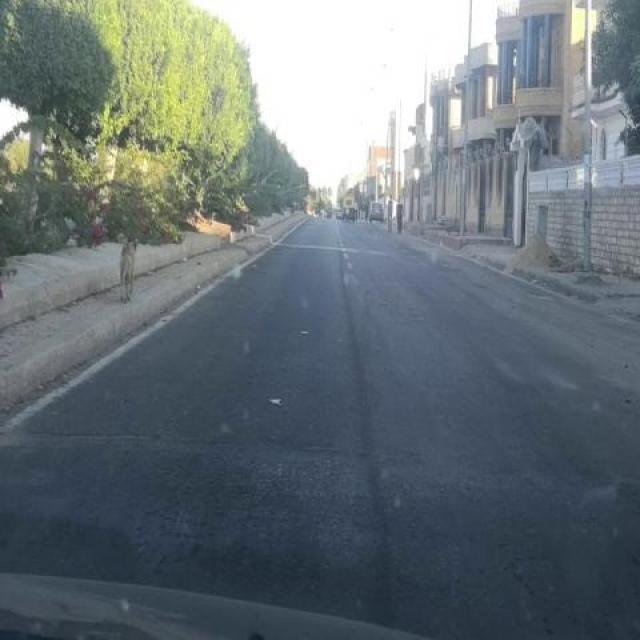Unmarked Bump: (0, 431, 640, 588)
